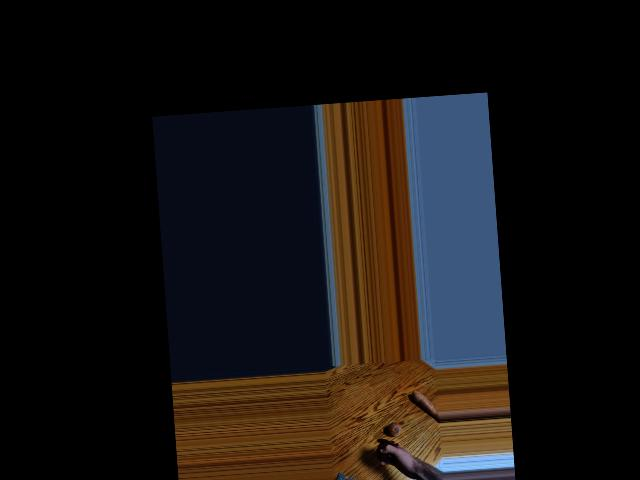onion: (386, 421, 402, 438)
